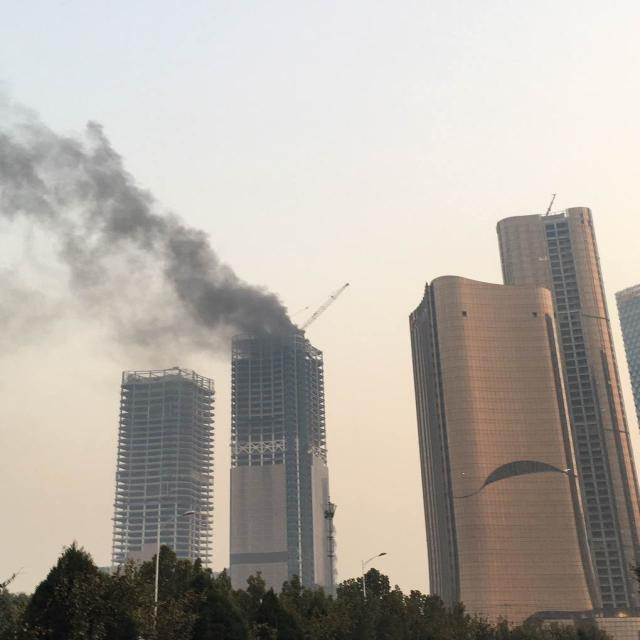Smoke: (0, 104, 293, 338)
